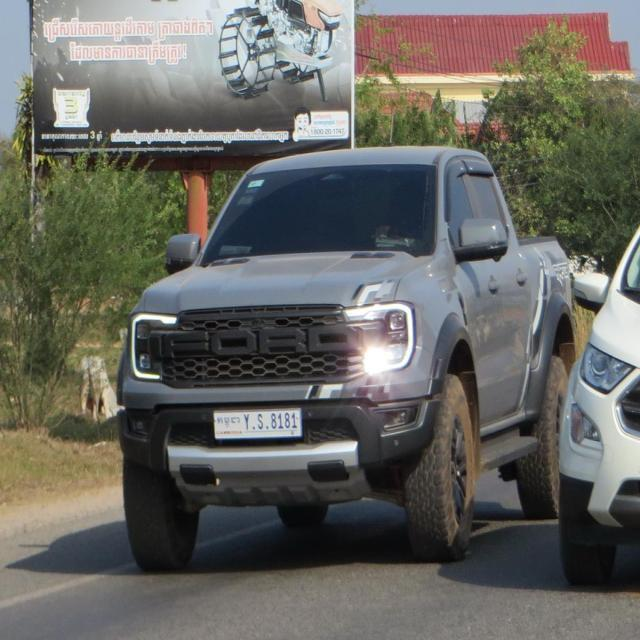Cambodia: (217, 414, 242, 429)
